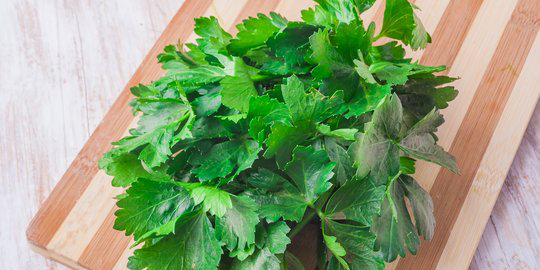Seledri: (136, 17, 425, 270)
